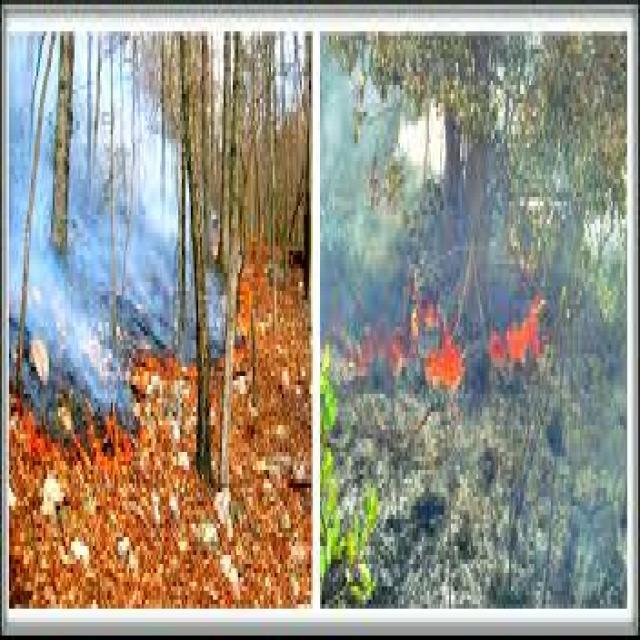Fire: (483, 300, 550, 388), (420, 311, 468, 418)
Smoke: (3, 8, 147, 406), (76, 150, 174, 322)
